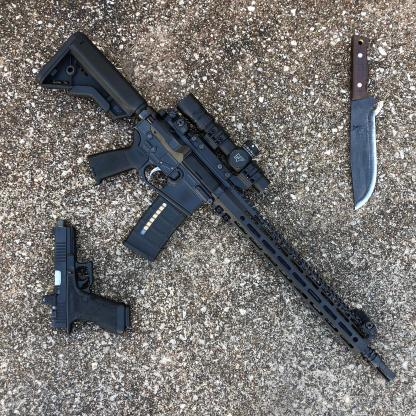Gun: (34, 30, 397, 384)
Knife: (348, 31, 387, 214)
Pistol: (40, 217, 134, 338)
